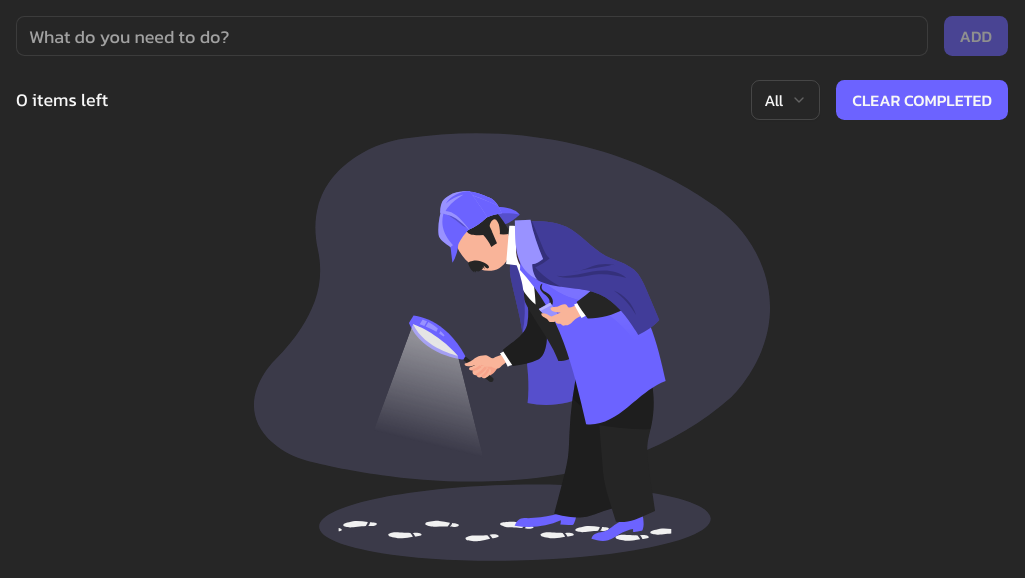
it: Todos Component (Full Integration Test) › should toggle task completion status and update remaining count
The width and height of the screenshot is (1025, 578).
In the field with placeholder "What do you need to do?": (472, 36) [16,16,928,56], type "Task to complete"
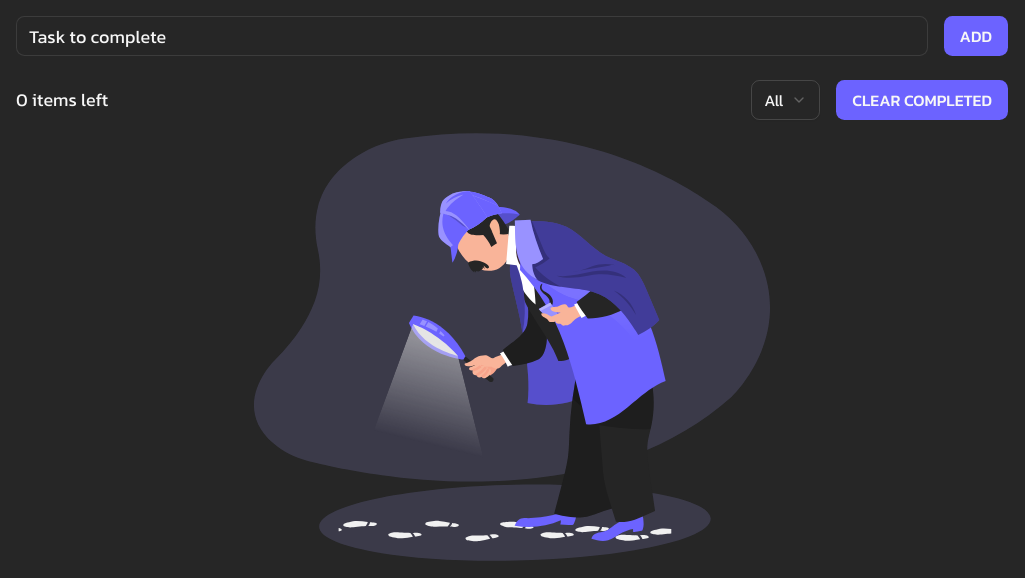
Click the button "Add": (976, 36) [944,16,1008,56]
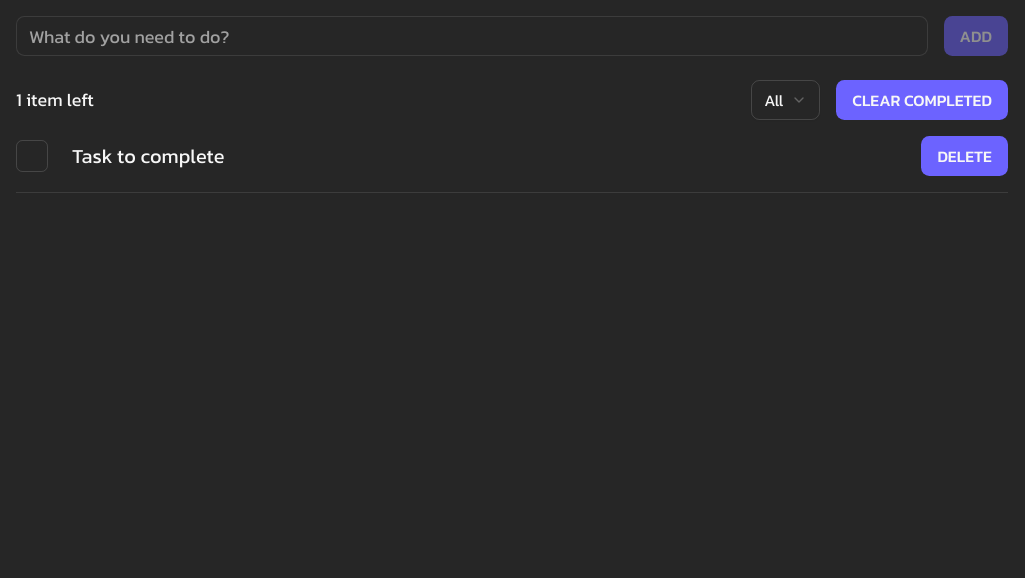
expect the field with placeholder "What do you need to do?" is empty: met, box [16,16,928,56]
expect the text "1 item left" is shown: met, box [16,86,94,114]
Click the checkbox named "Toggle task completion": (32, 156) [16,140,48,172]
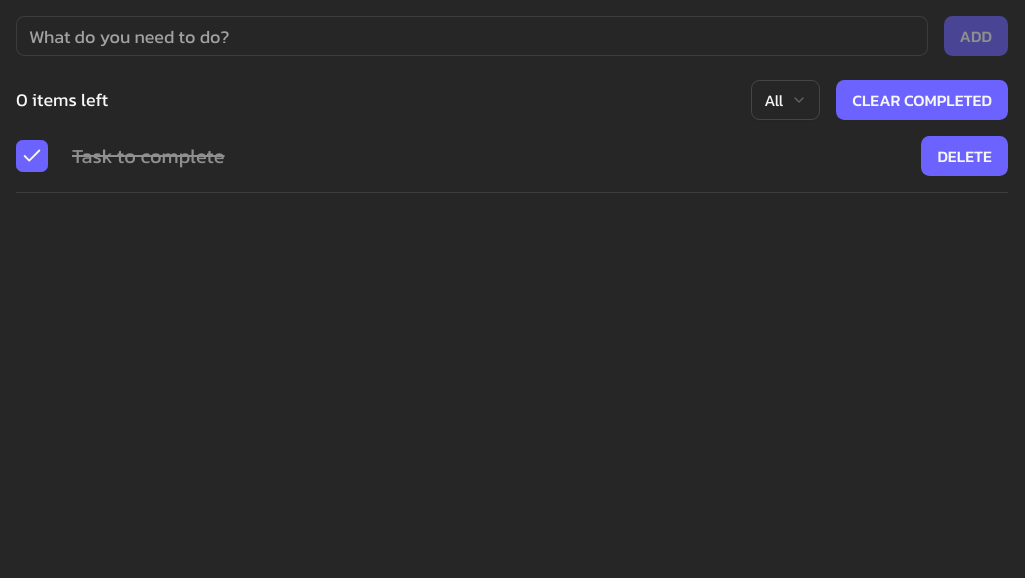
expect the checkbox named "Toggle task completion" is checked: met
expect the text "0 items left" is shown: met, box [16,86,108,114]
Click the checkbox named "Toggle task completion": (32, 156) [16,140,48,172]
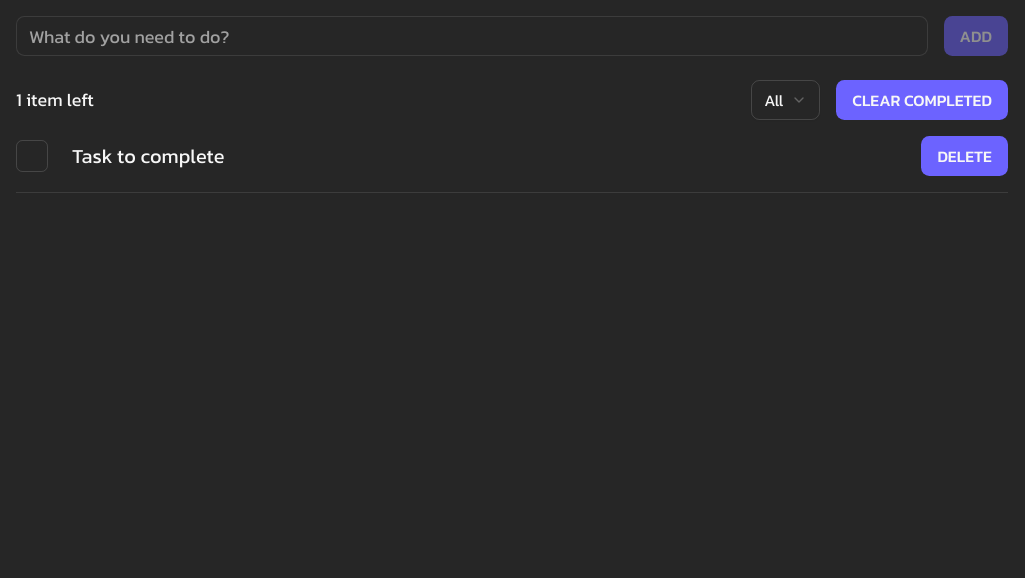
expect the checkbox named "Toggle task completion" is not checked: met, box [16,140,48,172]
expect the text "1 item left" is shown: met, box [16,86,94,114]
